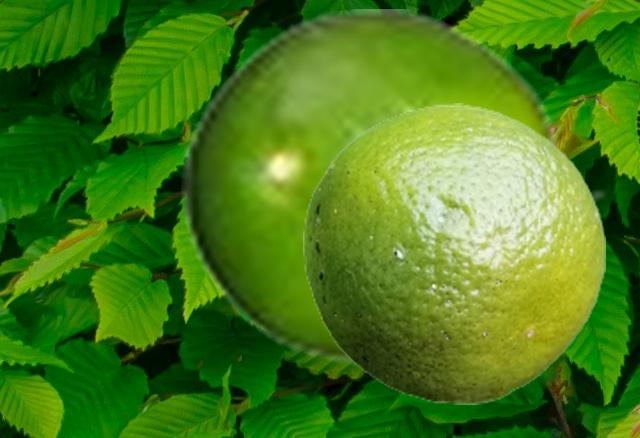calamansi: (179, 9, 609, 366), (303, 103, 604, 403)
